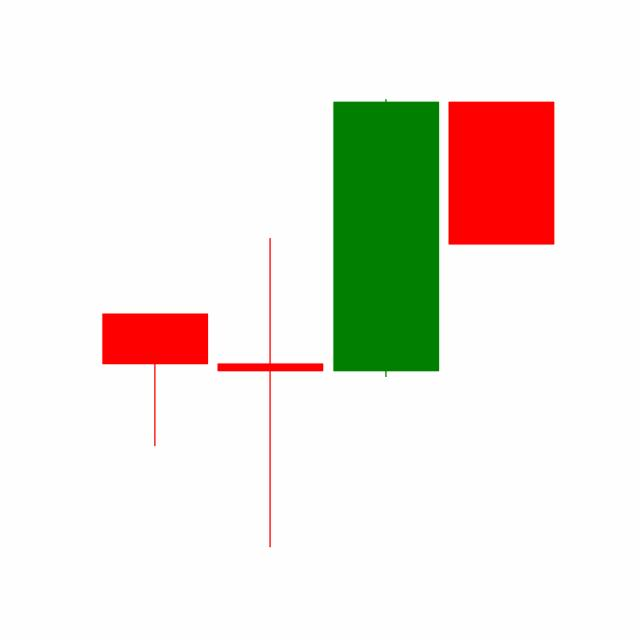Marubozu: (328, 96, 444, 380)
